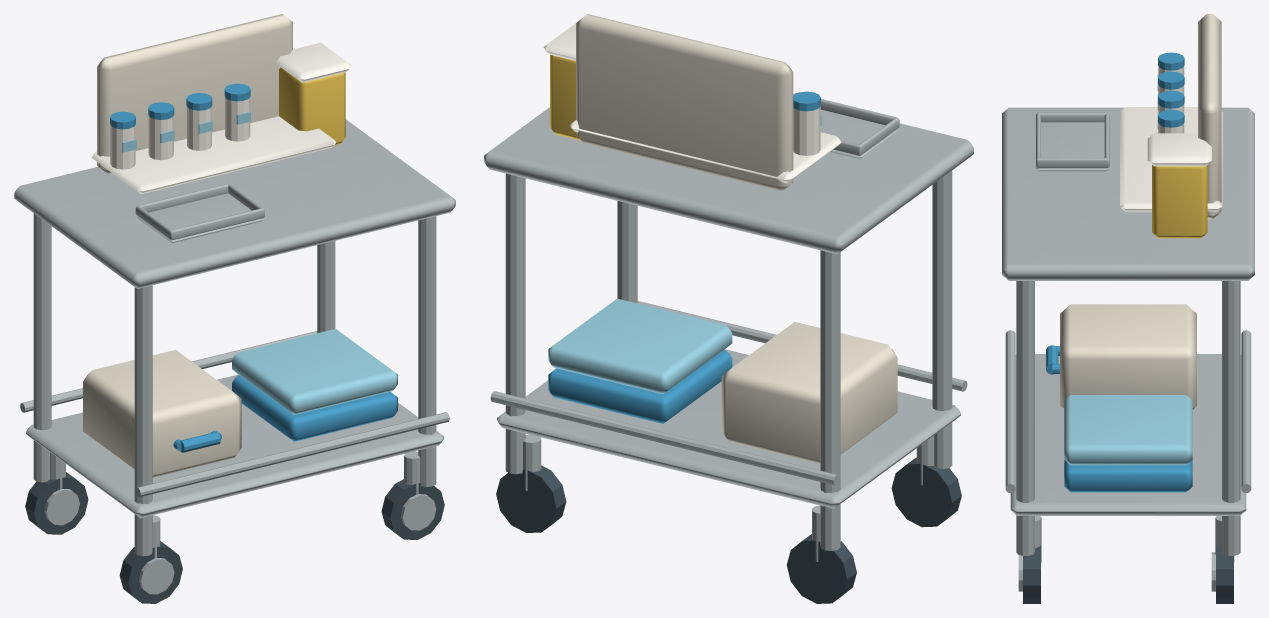
The model's file is SedaPrep_starter.glb.
3 views of the same model, side by side, from view 1: azimuth 30°, elevation 25°; view 2: azimuth 150°, elevation 25°; view 3: azimuth 270°, elevation 25° (orthographic). The views are drawn at different scales.
Visible parts, largest first — view 1: Static_steel, Static_ivory, Static_white, Static_lightblue, Static_blue, Static_dark, Static_yellow; view 2: Static_steel, Static_ivory, Static_lightblue, Static_dark, Static_blue, Static_white, Static_yellow; view 3: Static_steel, Static_ivory, Static_lightblue, Static_white, Static_blue, Static_yellow, Static_dark.
Part boxes in pixels (x1,y1,x2,y2): Static_steel: (14,119,455,594); Static_ivory: (83,14,292,477); Static_white: (91,42,351,193); Static_lightblue: (122,111,397,414); Static_blue: (110,83,397,452); Static_dark: (25,472,444,603); Static_yellow: (279,67,345,145); Static_steel: (484,93,973,561); Static_ivory: (576,14,897,463); Static_lightblue: (548,115,821,394); Static_dark: (496,457,961,603); Static_blue: (548,91,820,423); Static_white: (543,23,841,183); Static_yellow: (550,55,581,140); Static_steel: (1002,107,1254,591); Static_ivory: (1060,14,1221,409); Static_lightblue: (1064,75,1192,465); Static_white: (1120,66,1222,211); Static_blue: (1046,52,1192,492); Static_yellow: (1152,165,1207,238); Static_dark: (1023,544,1233,603).
Size of the model in its own units: 0.89 by 1.23 by 0.59.
